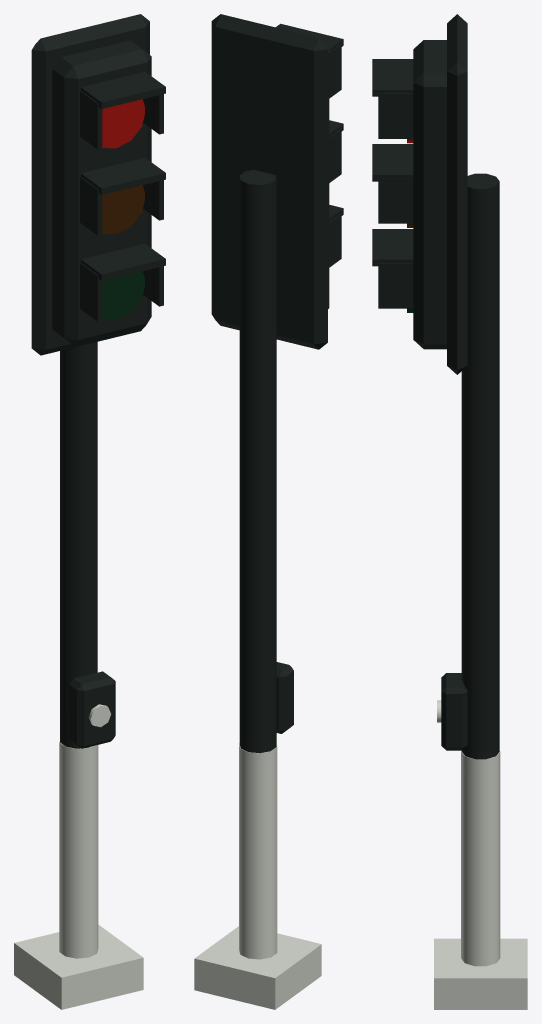
The model's file is signal_pole.glb.
The picture shows the model from 3 angles, left to right: view 1: azimuth 30°, elevation 25°; view 2: azimuth 150°, elevation 25°; view 3: azimuth 270°, elevation 25°; orthographic projection.
Visible parts, largest first — view 1: metal, paint, concrete, light (×3); view 2: metal, paint, concrete; view 3: metal, paint, concrete.
Part boxes in pixels (x1=…): metal: x1=31, y1=14, x2=165, y2=748; paint: x1=59, y1=704, x2=110, y2=958; concrete: x1=14, y1=924, x2=143, y2=1009; light (×3): x1=102, y1=99, x2=144, y2=320; metal: x1=211, y1=14, x2=343, y2=753; paint: x1=239, y1=743, x2=277, y2=959; concrete: x1=194, y1=926, x2=321, y2=1009; metal: x1=372, y1=14, x2=499, y2=759; paint: x1=437, y1=700, x2=500, y2=966; concrete: x1=434, y1=938, x2=527, y2=1009.
Bounding box in the file's own units: 0.46 × 3.59 × 0.53.
